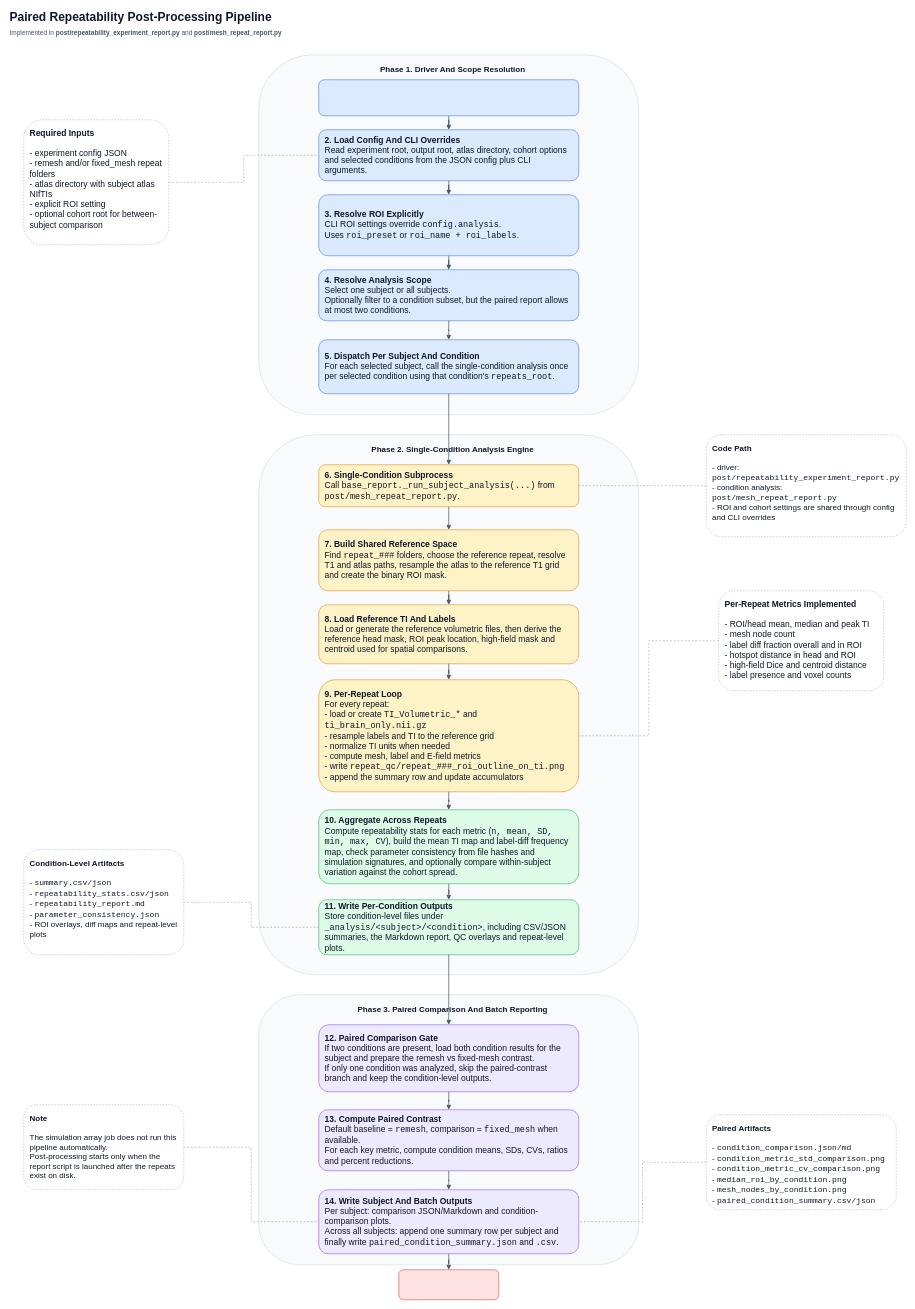
This 915x1309 diagram has some shape labels left out. The shapes that lost their labels are listed below. From the top down, each one's centre as x and y in pixels, then its label:
At (x=448, y=97): "1. Entry Point Run post/repeatability_experiment_report.py".
At (x=448, y=1284): "Done".
